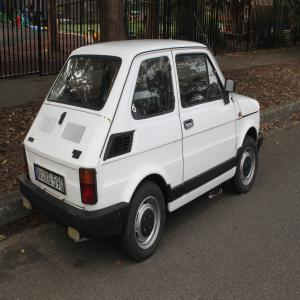Vehicle-registration-plate: (34, 166, 67, 195)
